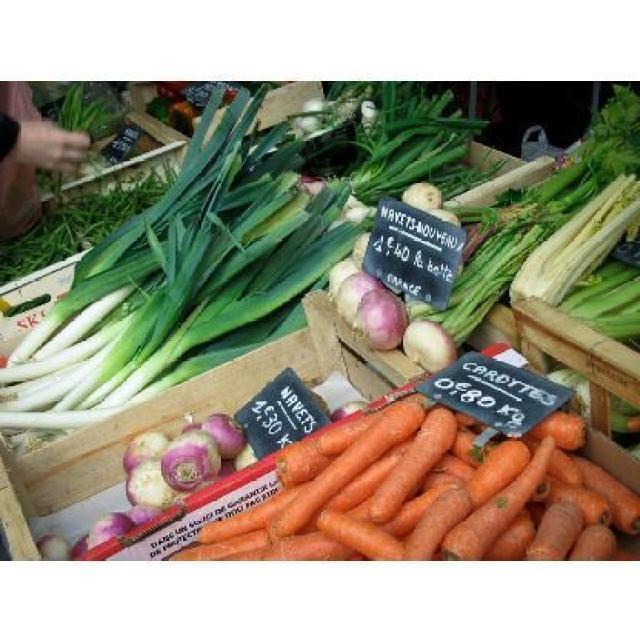Carrot: (166, 392, 640, 558), (268, 393, 436, 536)
